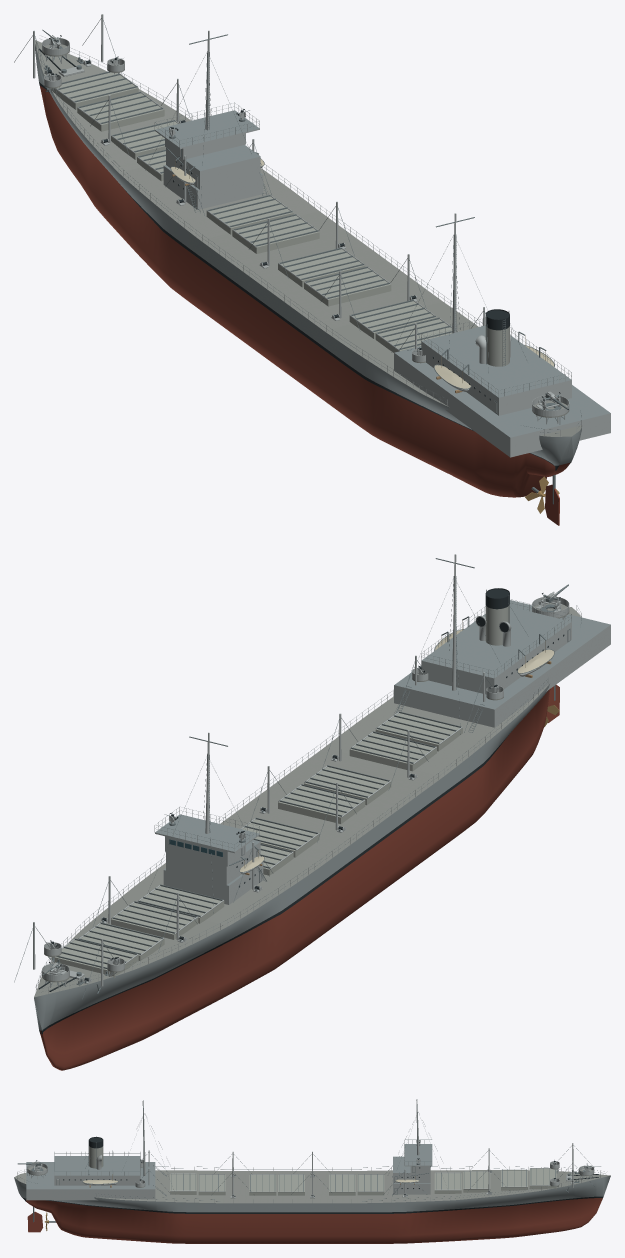
Rendered from liberty-collier.glb.
3 renders of one model, top to bottom at view 1: azimuth 30°, elevation 25°; view 2: azimuth 150°, elevation 25°; view 3: azimuth 270°, elevation 25°, orthographic. The views are drawn at different scales.
Parts seen in each view (by area): view 1: hull.surface, boat-deck.mesh, poop-house.mesh, steel-covers.mesh, bridge-deck.mesh, bridge-wings.mesh, hatch-posts.mesh, midship-house.mesh, hatch-4-1.mesh, hatch-1-1.mesh, hatch-3-1.mesh, deck-rails.mesh (+9 smaller); view 2: hull.surface, poop-house.mesh, boat-deck.mesh, steel-covers.mesh, bridge-wings.mesh, hatch-posts.mesh, midship-house.mesh, hatch-5-2.mesh, hatch-4-2.mesh, bridge-deck.mesh, deck-rails.mesh, hatch-2-2.mesh (+9 smaller); view 3: hull.surface, poop-house.mesh, boat-deck.mesh, steel-covers.mesh, hatch-posts.mesh, bridge-wings.mesh, deck-rails.mesh, hatch-2-1.mesh, hatch-4-1.mesh, hatch-5-2.mesh, hatch-3-2.mesh, hatch-2-2.mesh (+10 smaller).
Boxes of the visible parts, box(x1,y1,x2,y2) form: hull.surface: box(35, 40, 582, 497); boat-deck.mesh: box(421, 318, 571, 415); poop-house.mesh: box(394, 346, 610, 457); steel-covers.mesh: box(55, 71, 458, 350); bridge-deck.mesh: box(166, 145, 260, 189); bridge-wings.mesh: box(154, 102, 259, 149); hatch-posts.mesh: box(14, 14, 485, 351); midship-house.mesh: box(163, 165, 263, 209); hatch-4-1.mesh: box(304, 268, 391, 306); hatch-1-1.mesh: box(77, 93, 164, 131); hatch-3-1.mesh: box(232, 215, 319, 253); deck-rails.mesh: box(35, 36, 581, 436); hull.surface: box(34, 607, 580, 1070); poop-house.mesh: box(394, 600, 610, 727); boat-deck.mesh: box(421, 599, 571, 694); steel-covers.mesh: box(56, 711, 462, 968); bridge-wings.mesh: box(154, 807, 259, 853); hatch-posts.mesh: box(14, 655, 491, 998); midship-house.mesh: box(163, 862, 263, 904); hatch-5-2.mesh: box(349, 733, 436, 771); hatch-4-2.mesh: box(278, 785, 365, 823); bridge-deck.mesh: box(166, 840, 260, 885); deck-rails.mesh: box(35, 605, 581, 993); hatch-2-2.mesh: box(111, 902, 198, 939); hull.surface: box(14, 1170, 610, 1243); poop-house.mesh: box(26, 1162, 155, 1200); boat-deck.mesh: box(54, 1152, 140, 1185); steel-covers.mesh: box(171, 1168, 555, 1192); hatch-posts.mesh: box(141, 1143, 594, 1195); bridge-wings.mesh: box(404, 1139, 432, 1166); deck-rails.mesh: box(17, 1166, 605, 1202); hatch-2-1.mesh: box(434, 1173, 461, 1193); hatch-4-1.mesh: box(249, 1175, 276, 1195); hatch-5-2.mesh: box(198, 1174, 225, 1195); hatch-3-2.mesh: box(357, 1175, 384, 1195); hatch-2-2.mesh: box(463, 1172, 490, 1192).
Bounding box in the file's own units: 17.33 × 33.22 × 135.
Materials: 18 (12 with a texture image).
